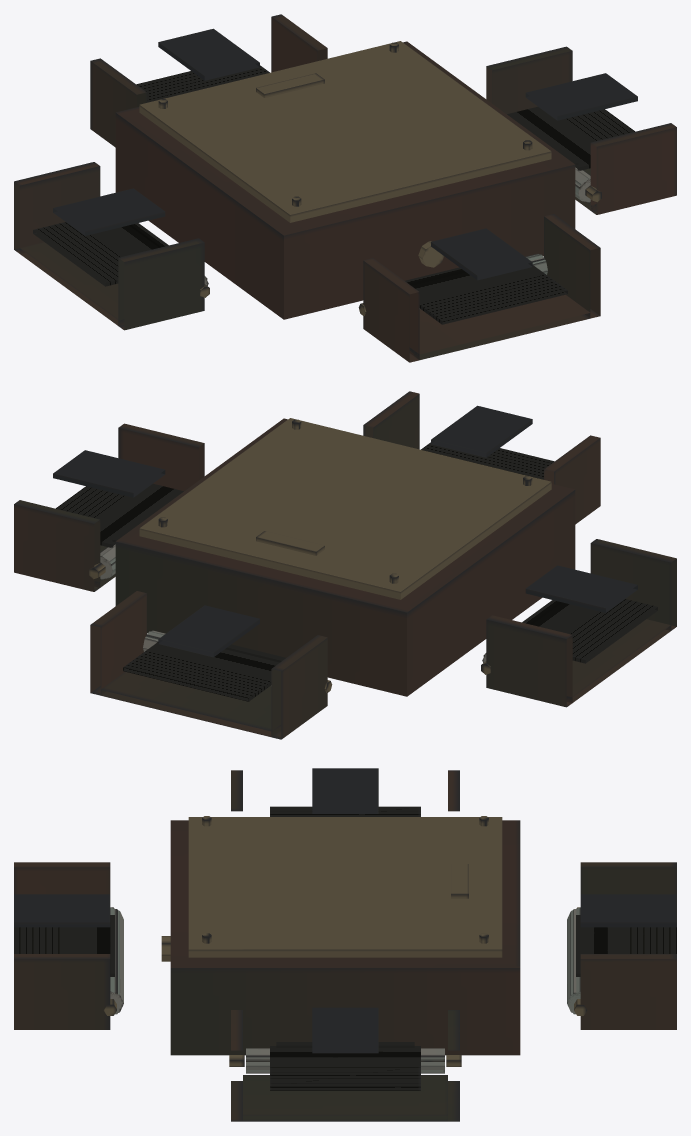
The model's file is place_works_conduit_lane_junction.glb.
3 renders of one model, top to bottom at view 1: azimuth 30°, elevation 25°; view 2: azimuth 150°, elevation 25°; view 3: azimuth 270°, elevation 25°, orthographic. The views are drawn at different scales.
Visible parts, largest first — view 1: LOD0_Merged_Material_Atlas, LOD0_flow_mesh; view 2: LOD0_Merged_Material_Atlas, LOD0_flow_mesh; view 3: LOD0_Merged_Material_Atlas, LOD0_flow_mesh, LOD1_Merged_Material_Atlas.
Boxes of the visible parts, x1,y1,x2,y2 form: LOD0_Merged_Material_Atlas: (14,14,676,362); LOD0_flow_mesh: (33,65,634,324); LOD0_Merged_Material_Atlas: (14,391,676,739); LOD0_flow_mesh: (56,442,657,701); LOD0_Merged_Material_Atlas: (14,768,676,1121); LOD0_flow_mesh: (14,806,676,1090); LOD1_Merged_Material_Atlas: (110,909,580,1072).
Size of the model in its own units: 2.2 by 0.385 by 2.2.
Materials: 1 (1 with a texture image).
